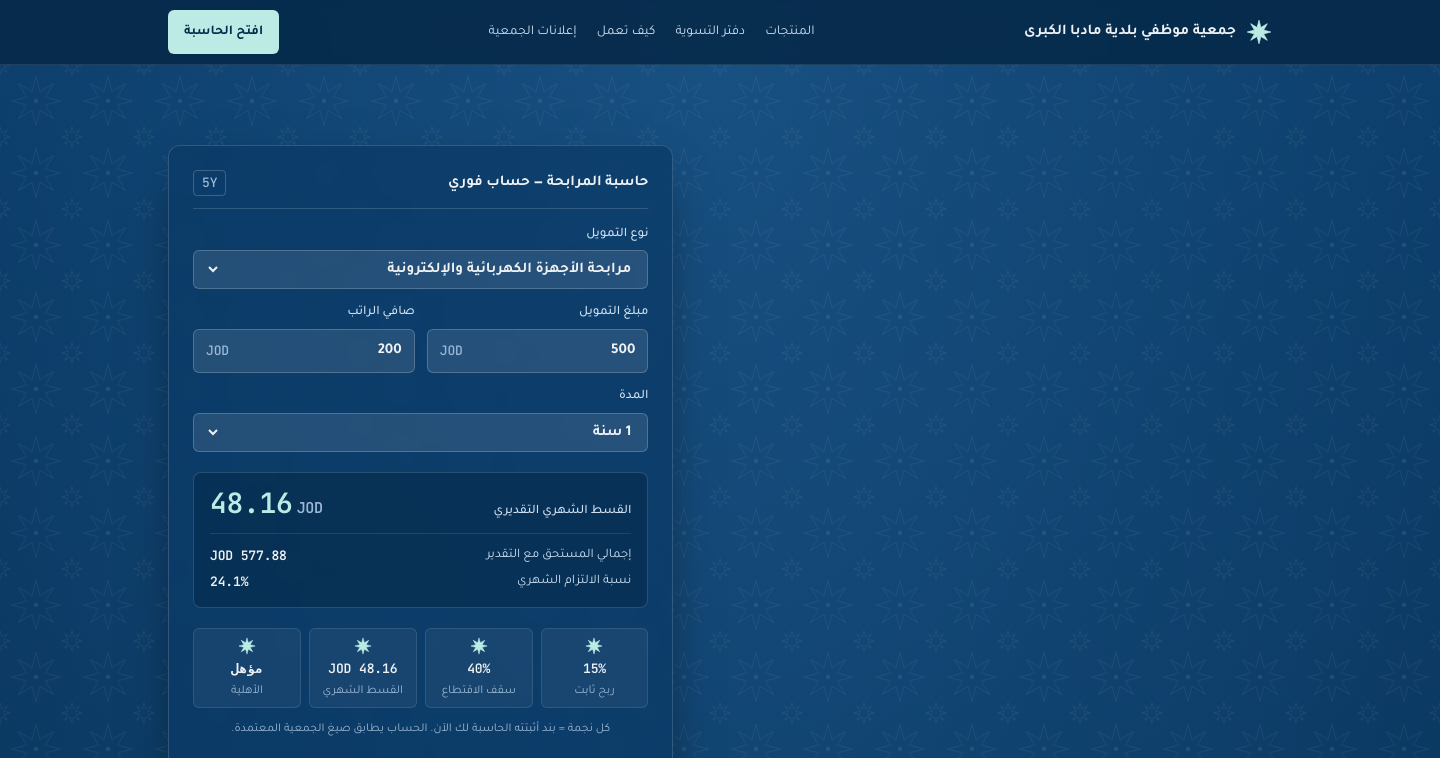
it: LandingGate › launches the app from the top-bar CTA
Click the button "افتح الحاسبة" at (224, 32), box [168,10,279,54]
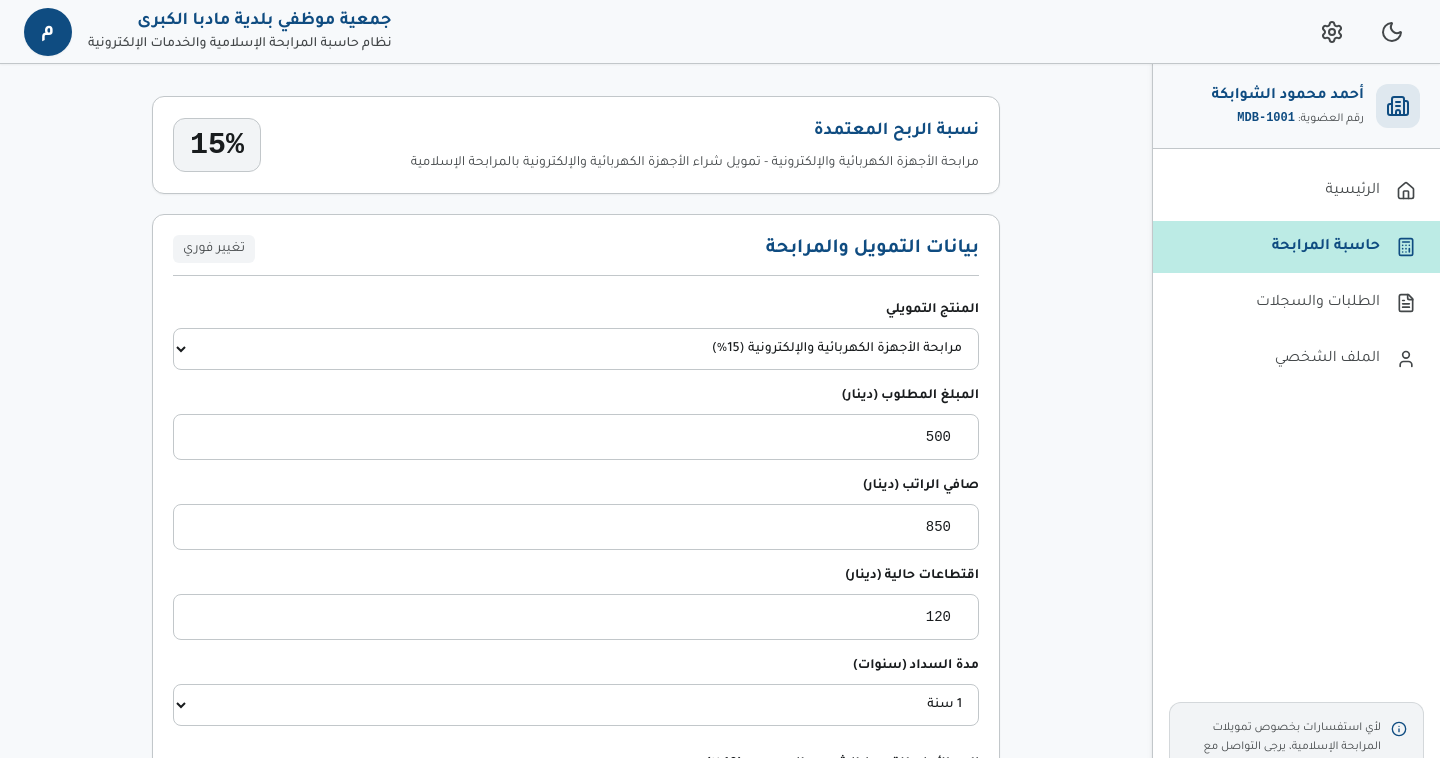
Result: the heading "نسبة الربح المعتمدة" is shown at [814,122,979,140]
